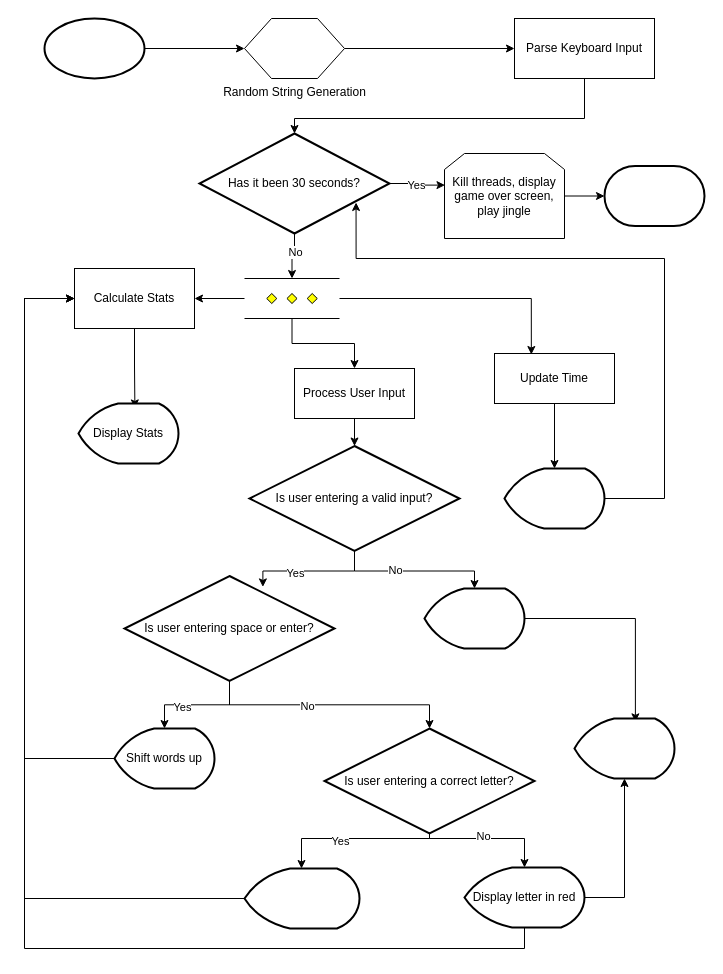
Some shapes in this 723 by 974 pixel diagram are drawn without their labels. Each missing label, with the box of its shape:
Display "_": (423, 587, 525, 649)
Display letter in green: (243, 867, 360, 929)
Display Time: (503, 467, 605, 529)
Game End: (603, 164, 705, 226)
MBED Power On: (43, 17, 145, 79)
Sound the buzzer: (573, 717, 675, 779)
